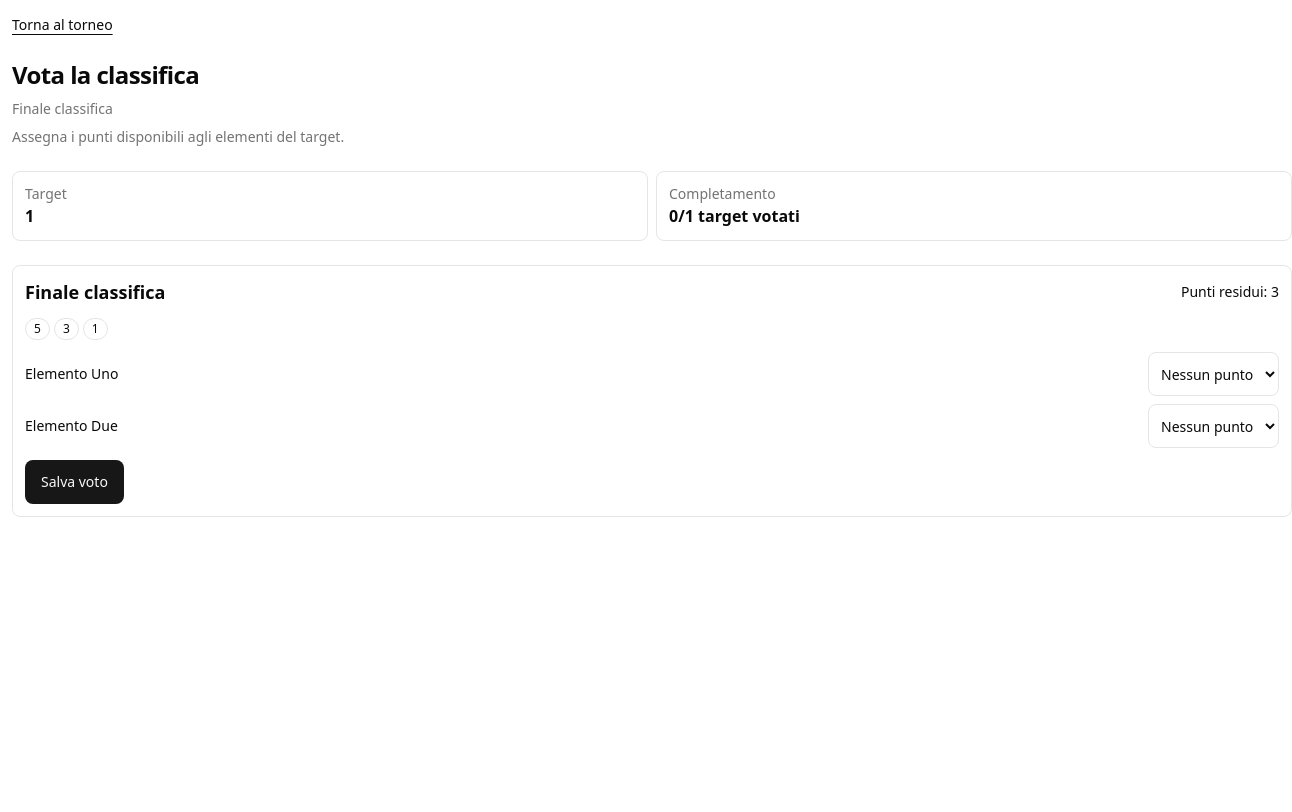
PhaseVoteView con schede classifica e pick › mostra i punti residui, impedisce valori duplicati e salva la scheda classifica
The image size is (1292, 812).
Expected: the text with id "ranking-remaining-p1" shows "3", x1=1181 y1=282 x2=1279 y2=301
Expected: the text "0/1 target votati" is shown, x1=669 y1=205 x2=800 y2=227
Select "5" in the dropdown with id "rank-points-e1": (1214, 374) x1=1148 y1=352 x2=1279 y2=396
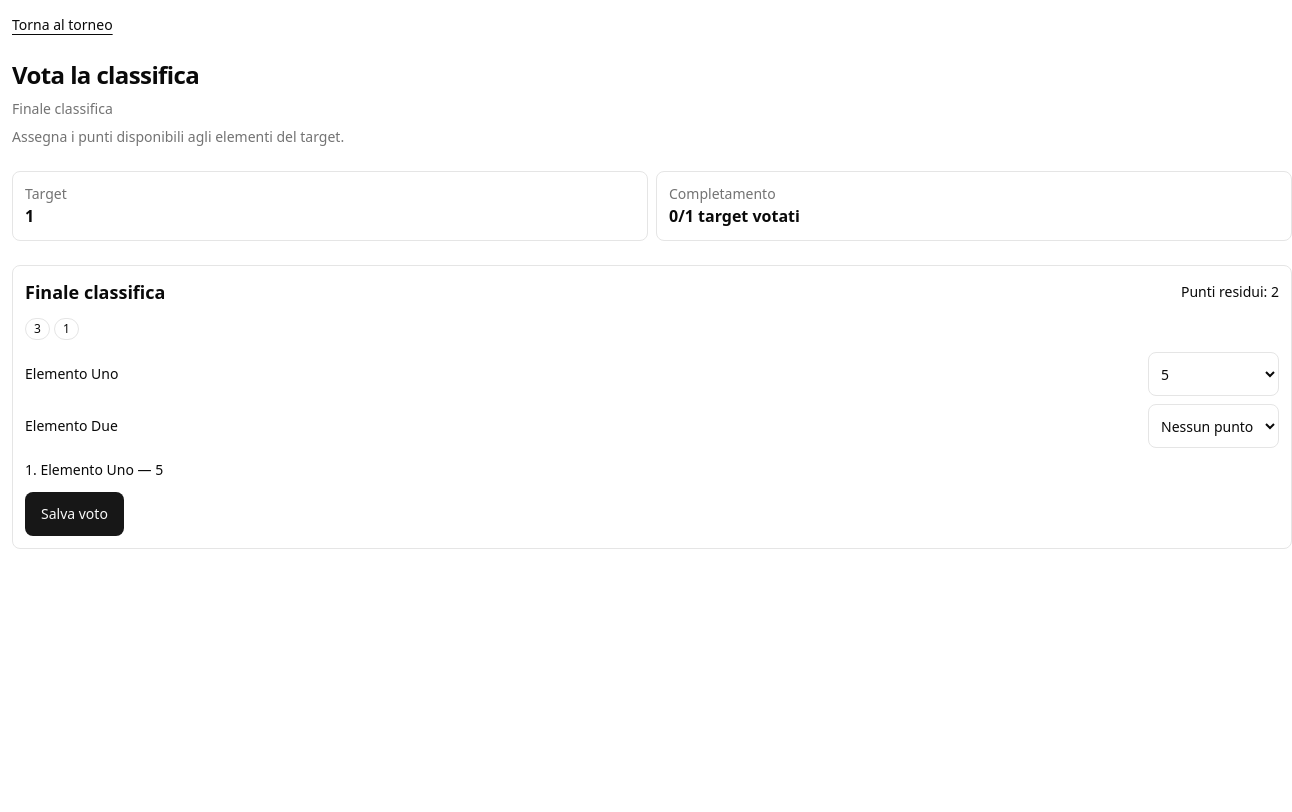
Now the text with id "ranking-remaining-p1" shows "2", box x1=1181 y1=282 x2=1279 y2=301
Now the list with id "ranking-order-p1" shows "Elemento Uno", box x1=25 y1=460 x2=163 y2=479
Click the button with id "save-ranking-p1": (74, 514) x1=25 y1=492 x2=124 y2=536
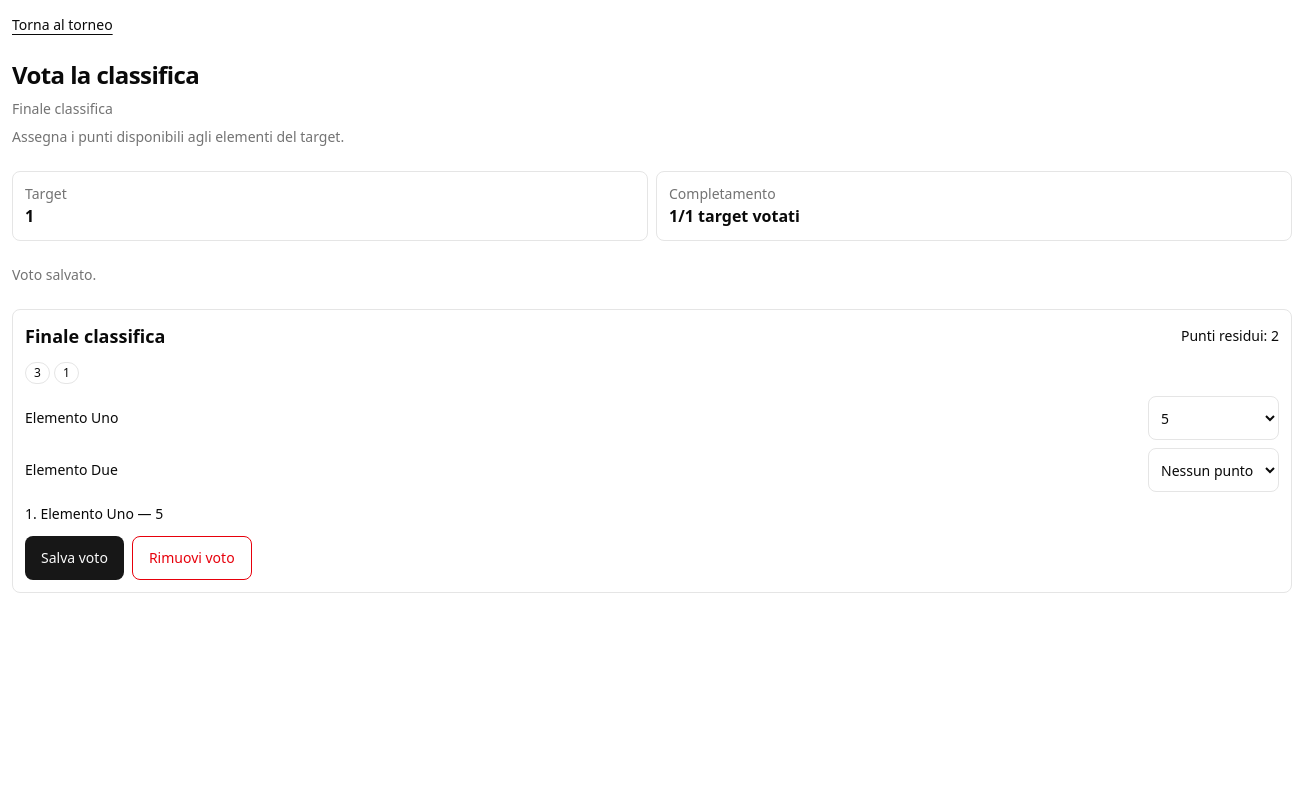
Now the text "1/1 target votati" is shown, box x1=669 y1=205 x2=800 y2=227
Now the button with id "remove-ranking-p1" is shown, box x1=132 y1=536 x2=252 y2=580
